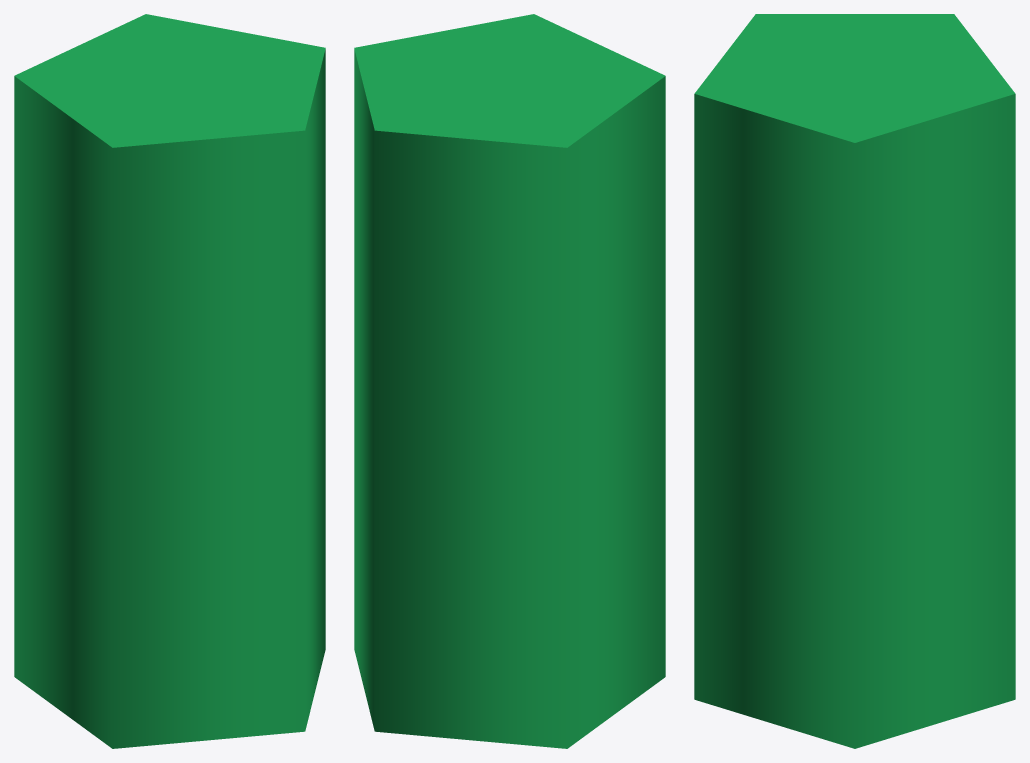
The model's file is HexSmooth.obj.
3 renders of one model, left to right at view 1: azimuth 30°, elevation 25°; view 2: azimuth 150°, elevation 25°; view 3: azimuth 270°, elevation 25°, orthographic.
Parts seen in each view (by area): view 1: Cylinder001; view 2: Cylinder001; view 3: Cylinder001.
Boxes of the visible parts, bbox=[...] form: Cylinder001: bbox=[14, 14, 325, 748]; Cylinder001: bbox=[354, 14, 665, 748]; Cylinder001: bbox=[694, 14, 1015, 748].
Size of the model in its own units: 71.22 by 156 by 74.89.
